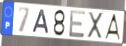7: (18, 6, 31, 34)
8: (52, 9, 66, 37)
A: (31, 8, 50, 35), (103, 14, 121, 42)
E: (69, 9, 87, 39)
X: (87, 12, 104, 40)
